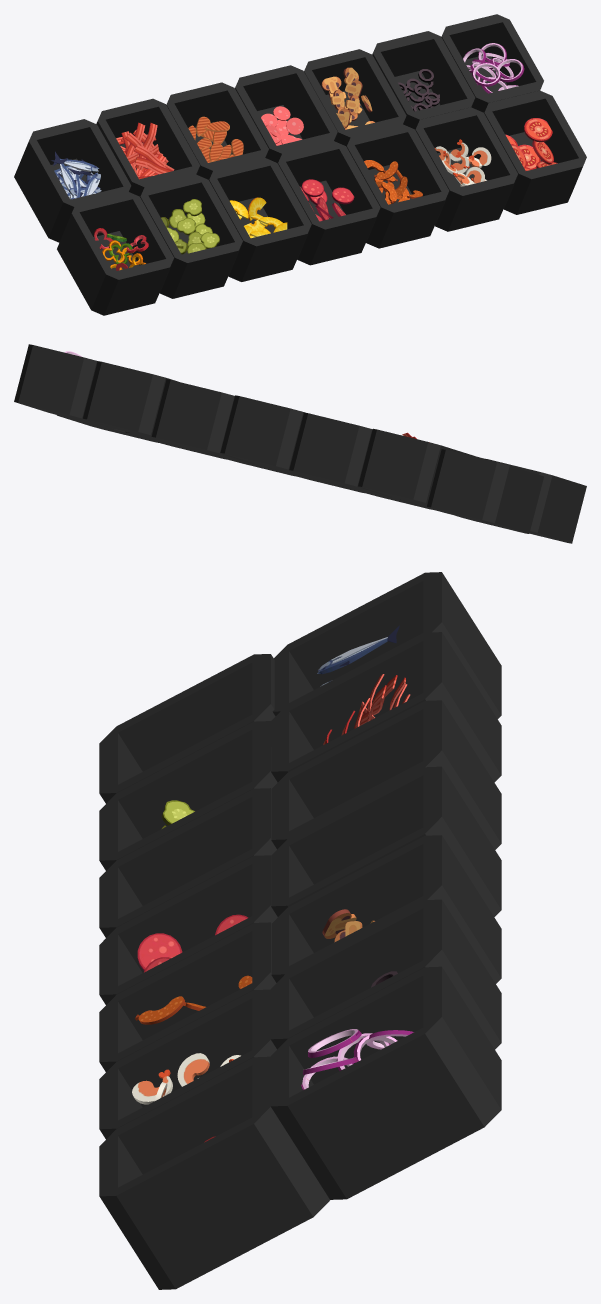
File: toppingsContainer.glb
3 renders of one model, top to bottom at view 1: azimuth 30°, elevation 25°; view 2: azimuth 150°, elevation 25°; view 3: azimuth 270°, elevation 25°, orthographic. The views are drawn at different scales.
Visible parts, largest first — view 1: toppingsCombined.001, shrimp, onion, bacon, anchovies, pickle, tomato, sausage, olives, peppers, salami, mushroom (+3 smaller); view 2: toppingsCombined.001; view 3: toppingsCombined.001, onion, shrimp.
Part boxes in pixels (x1,y1,x2,y2): toppingsCombined.001: [14, 14, 586, 315]; shrimp: [435, 139, 491, 186]; onion: [463, 43, 524, 93]; bacon: [116, 122, 174, 177]; anchovies: [51, 151, 101, 199]; pickle: [161, 199, 219, 254]; tomato: [505, 118, 555, 170]; sausage: [364, 160, 422, 204]; olives: [398, 69, 439, 111]; peppers: [94, 228, 148, 270]; salami: [301, 179, 353, 221]; mushroom: [322, 67, 372, 127]; toppingsCombined.001: [14, 344, 586, 543]; toppingsCombined.001: [99, 572, 501, 1289]; onion: [302, 1029, 412, 1089]; shrimp: [132, 1053, 240, 1103].
Size of the model in its own units: 2.27 by 0.6168 by 0.8229.
Materials: 1 (1 with a texture image).
